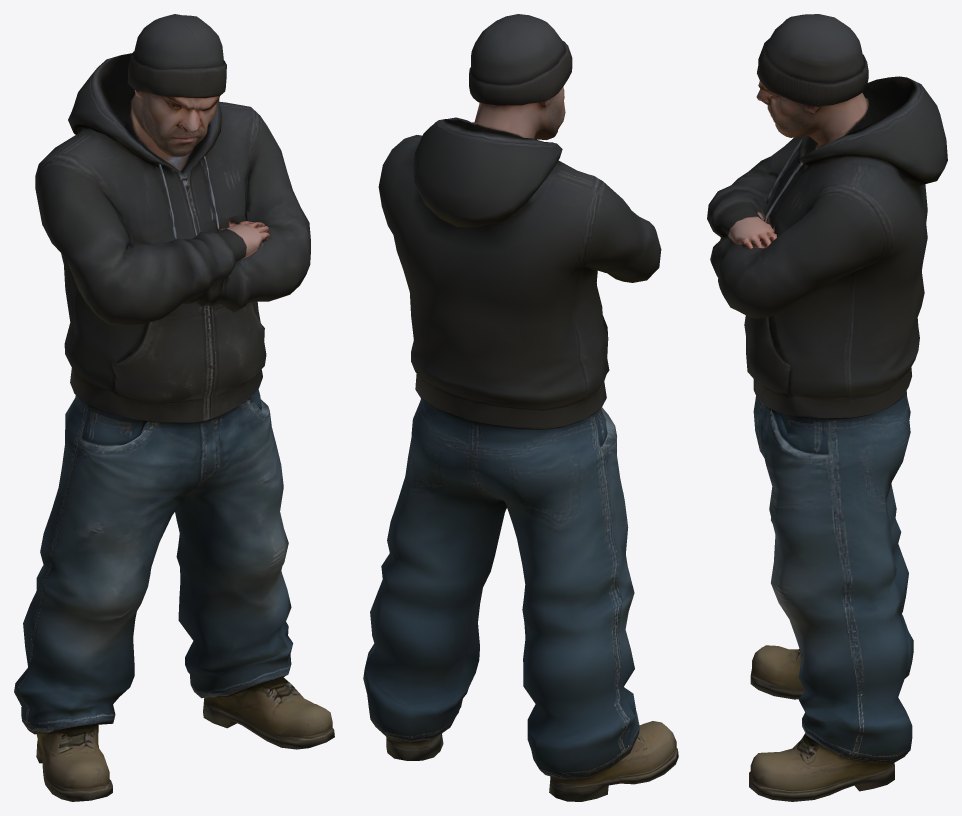
Rendered from selected.glb.
The picture shows the model from 3 angles, left to right: view 1: azimuth 30°, elevation 25°; view 2: azimuth 150°, elevation 25°; view 3: azimuth 270°, elevation 25°; orthographic projection.
Visible parts, largest first — view 1: tripo_node_4d2d993e-938e-4c68-9d50-fdcf00a3b414; view 2: tripo_node_4d2d993e-938e-4c68-9d50-fdcf00a3b414; view 3: tripo_node_4d2d993e-938e-4c68-9d50-fdcf00a3b414.
Part boxes in pixels (x1,y1,x2,y2): tripo_node_4d2d993e-938e-4c68-9d50-fdcf00a3b414: (14, 14, 334, 801); tripo_node_4d2d993e-938e-4c68-9d50-fdcf00a3b414: (363, 14, 678, 801); tripo_node_4d2d993e-938e-4c68-9d50-fdcf00a3b414: (707, 14, 947, 801).
Size of the model in its own units: 0.3848 by 0.998 by 0.3027.
1 material, 1 textured.
